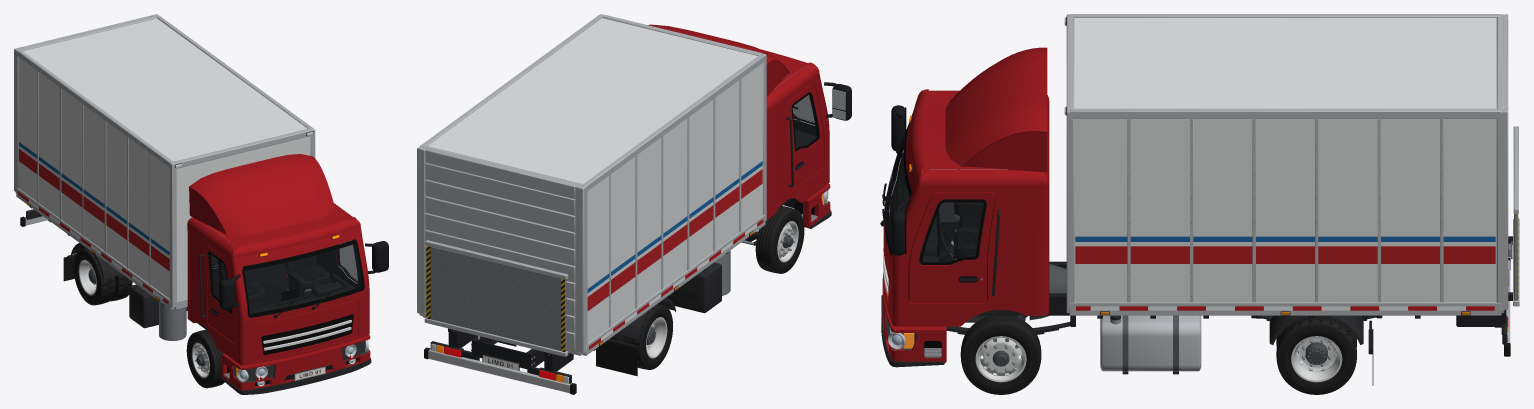
Rendered from box-truck.glb.
3 views of the same model, side by side, from view 1: azimuth 30°, elevation 25°; view 2: azimuth 150°, elevation 25°; view 3: azimuth 270°, elevation 25° (orthographic). The views are drawn at different scales.
Parts seen in each view (by area): view 1: Body, Wheel_2_Right, Wheel_1_Right; view 2: Body, Roller_Door, Tail_Lift, Wheel_1_Right, Wheel_2_Right; view 3: Body, Wheel_1_Left, Wheel_2_Left, Tail_Lift.
Part boxes in pixels (x1,y1,x2,y2): Body: [14, 14, 388, 394]; Wheel_2_Right: [73, 248, 132, 305]; Wheel_1_Right: [186, 330, 224, 388]; Body: [417, 14, 851, 394]; Roller_Door: [425, 163, 575, 349]; Tail_Lift: [424, 240, 568, 356]; Wheel_1_Right: [755, 206, 804, 273]; Wheel_2_Right: [610, 303, 672, 369]; Body: [880, 14, 1512, 385]; Wheel_1_Left: [960, 315, 1041, 394]; Wheel_2_Left: [1276, 317, 1356, 394]; Tail_Lift: [1513, 126, 1519, 306].
Bounding box in the file's own units: 2.8 × 3.31 × 6.65.
68 materials, 16 textured.
